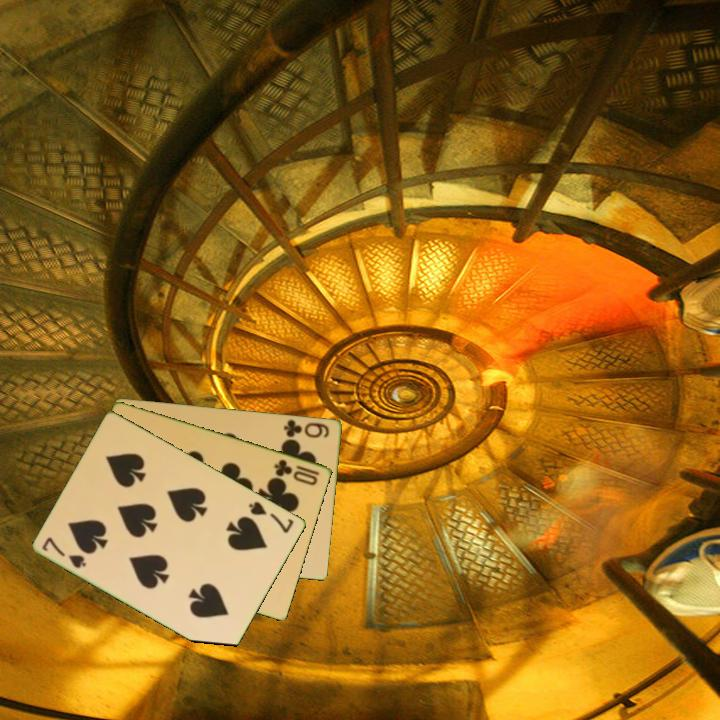10c: (271, 456, 323, 488)
6c: (280, 416, 333, 441)
7s: (245, 498, 297, 536), (39, 533, 90, 571)
